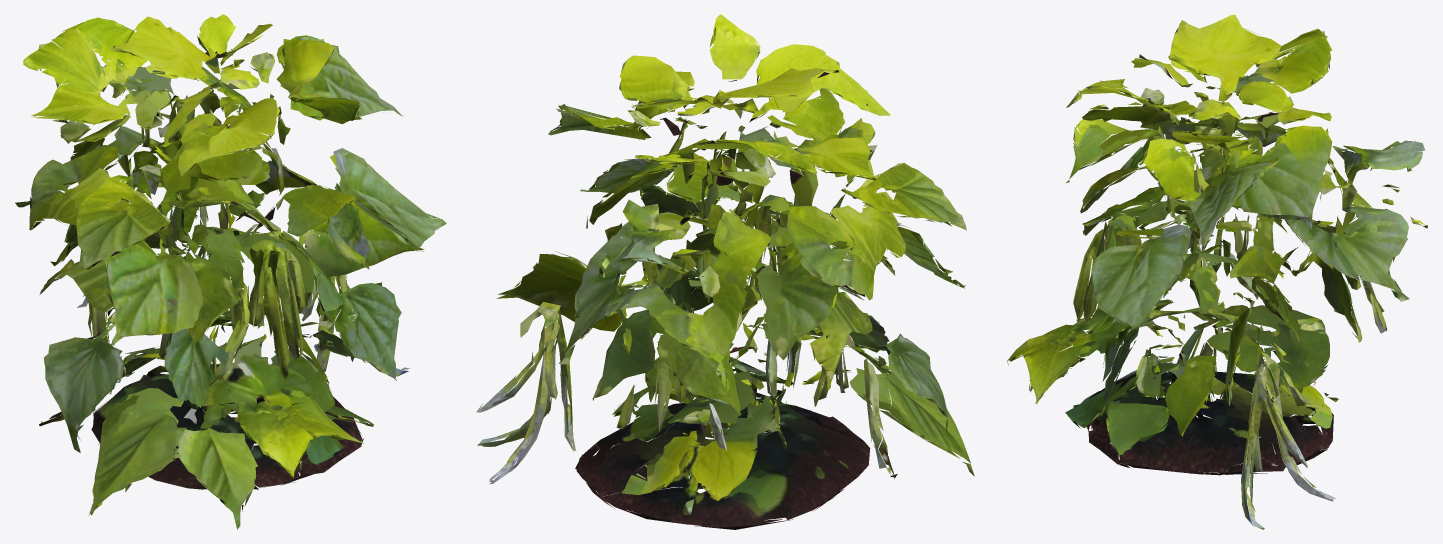
3 renders of one model, left to right at view 1: azimuth 30°, elevation 25°; view 2: azimuth 150°, elevation 25°; view 3: azimuth 270°, elevation 25°, orthographic. The views are drawn at different scales.
Parts seen in each view (by area): view 1: tmpu61vsae8.ply; view 2: tmpu61vsae8.ply; view 3: tmpu61vsae8.ply.
Boxes of the visible parts, box(x1,y1,x2,y2) form: tmpu61vsae8.ply: box(15, 14, 446, 529); tmpu61vsae8.ply: box(476, 14, 974, 529); tmpu61vsae8.ply: box(1007, 14, 1427, 529).
Size of the model in its own units: 1.95 by 1.98 by 1.94.
Materials: 1 (1 with a texture image).
